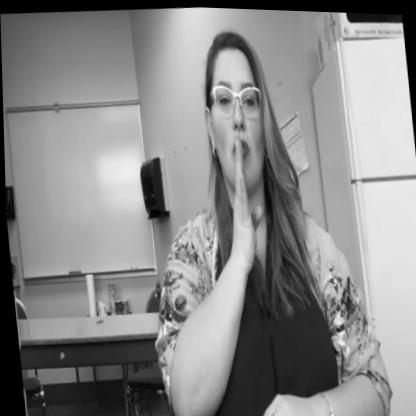Talk: (124, 15, 393, 416)
